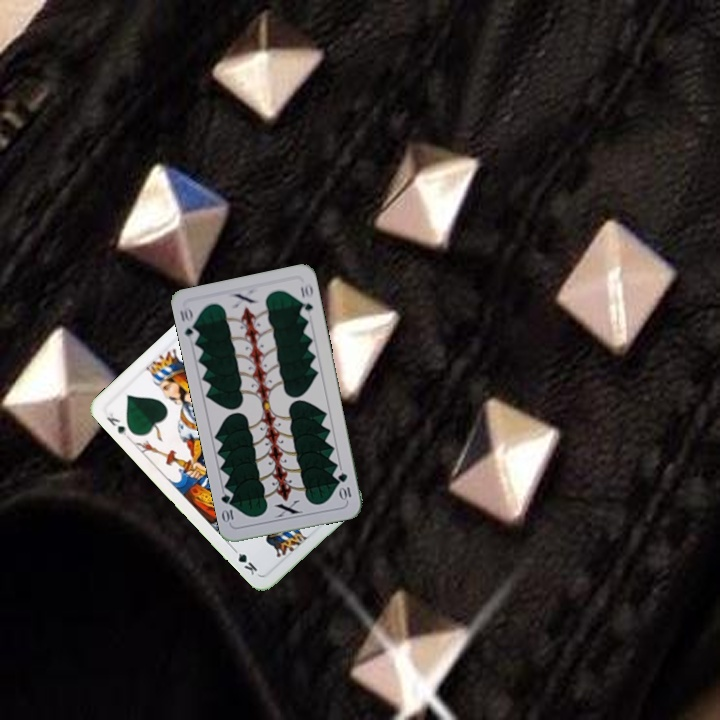G10: (175, 303, 201, 342), (334, 469, 354, 503)
GK: (102, 409, 130, 438)
